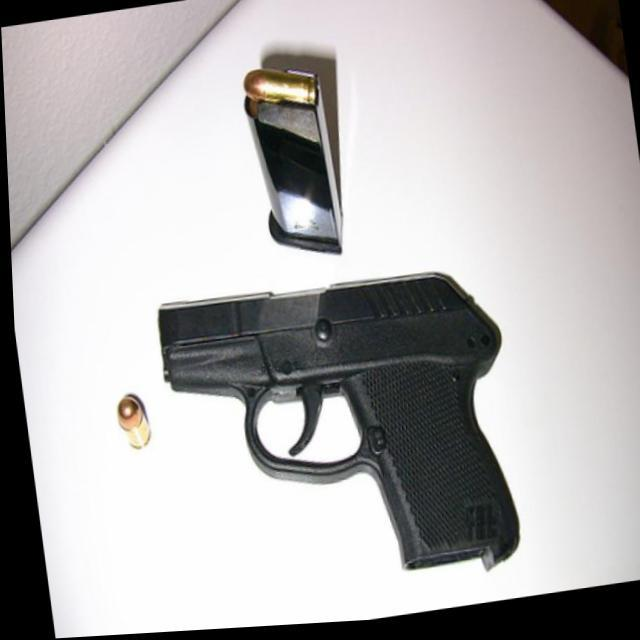weapon: (148, 257, 528, 616)
